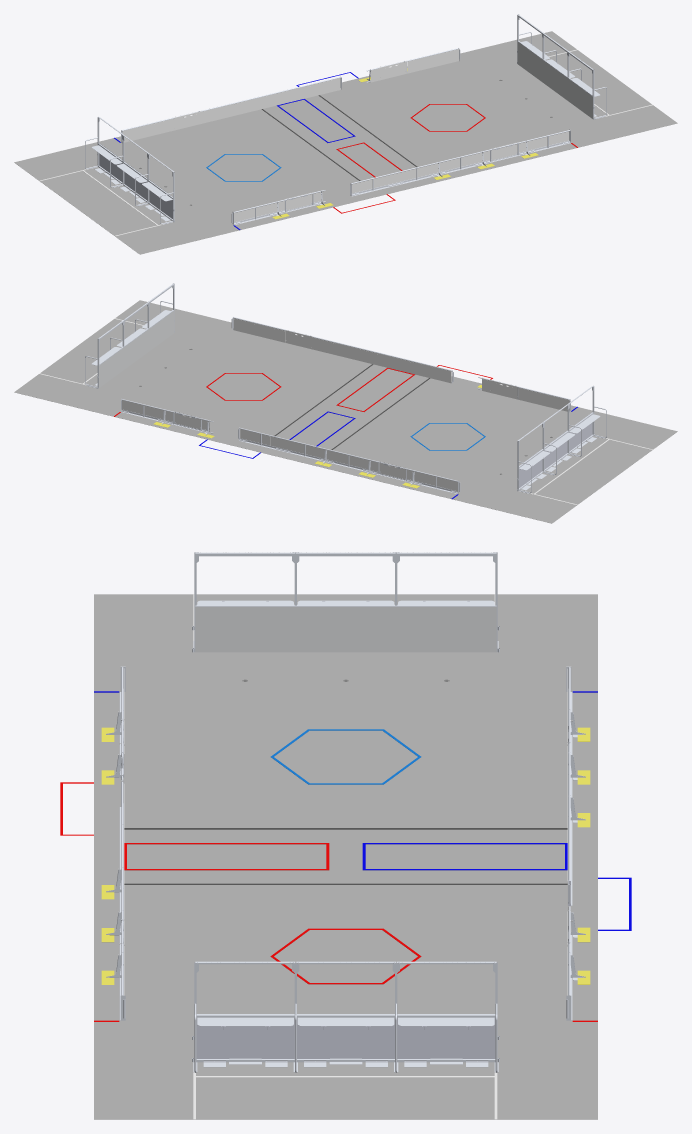
Rendered from Reefscape Base Field.fbx.
3 views of the same model, one above another, from view 1: azimuth 30°, elevation 25°; view 2: azimuth 150°, elevation 25°; view 3: azimuth 270°, elevation 25° (orthographic). The views are drawn at different scales.
Visible parts, largest first — view 1: CARPET (FE-2024-01).001, CARPET (FE-2024-01), FE-00004-01.002, FE-00004-01.001, FE-00004-01, FE-00010.002, FE-00010.003, FE-00010.001, FE-00010, FE-00009.005, FE-00009.004, FE-00009.003 (+2 smaller); view 2: CARPET (FE-2024-01), CARPET (FE-2024-01).001, FE-00004-01.002, FE-00004-01, FE-00004-01.001, FE-00010, FE-00010.001, FE-00010.002, FE-00010.003, FE-00009, FE-00009.001, FE-00009.002 (+2 smaller); view 3: CARPET (FE-2024-01), CARPET (FE-2024-01).001, FE-00004-01.003, FE-00004-01.004, FE-00004-01.005, FE-00004-01, FE-00004-01.002, FE-00004-01.001, FE-00004-06.002, FE-00004-06, FE-00004-06.001, tape_AutoLine (+1 smaller).
Part boxes in pixels (<box>): CARPET (FE-2024-01).001: <box>14,31,614,208</box>; CARPET (FE-2024-01): <box>77,77,677,254</box>; FE-00004-01.002: <box>517,42,542,82</box>; FE-00004-01.001: <box>542,60,567,100</box>; FE-00004-01: <box>568,79,592,118</box>; FE-00010.002: <box>223,96,267,118</box>; FE-00010.003: <box>267,85,310,107</box>; FE-00010.001: <box>381,166,424,186</box>; FE-00010: <box>425,156,468,175</box>; FE-00009.005: <box>144,118,174,137</box>; FE-00009.004: <box>407,54,436,73</box>; FE-00009.003: <box>311,78,340,96</box>; CARPET (FE-2024-01): <box>77,300,677,477</box>; CARPET (FE-2024-01).001: <box>14,346,614,523</box>; FE-00004-01.002: <box>99,347,124,387</box>; FE-00004-01: <box>149,311,174,351</box>; FE-00004-01.001: <box>124,329,149,369</box>; FE-00010: <box>334,342,377,365</box>; FE-00010.001: <box>378,353,421,375</box>; FE-00010.002: <box>313,447,357,466</box>; FE-00010.003: <box>270,436,313,455</box>; FE-00009: <box>421,364,451,383</box>; FE-00009.001: <box>255,323,285,342</box>; FE-00009.002: <box>518,387,547,406</box>; CARPET (FE-2024-01): <box>94,594,345,1119</box>; CARPET (FE-2024-01).001: <box>346,594,597,1119</box>; FE-00004-01.003: <box>295,607,396,652</box>; FE-00004-01.004: <box>195,607,295,652</box>; FE-00004-01.005: <box>396,607,496,652</box>; FE-00004-01: <box>196,1017,294,1058</box>; FE-00004-01.002: <box>397,1017,495,1058</box>; FE-00004-01.001: <box>297,1017,394,1058</box>; FE-00004-06.002: <box>297,1017,394,1026</box>; FE-00004-06: <box>398,1017,494,1026</box>; FE-00004-06.001: <box>197,1017,293,1026</box>; tape_AutoLine: <box>124,828,567,829</box>.
Size of the model in its own units: 2256 by 199 by 1037.
